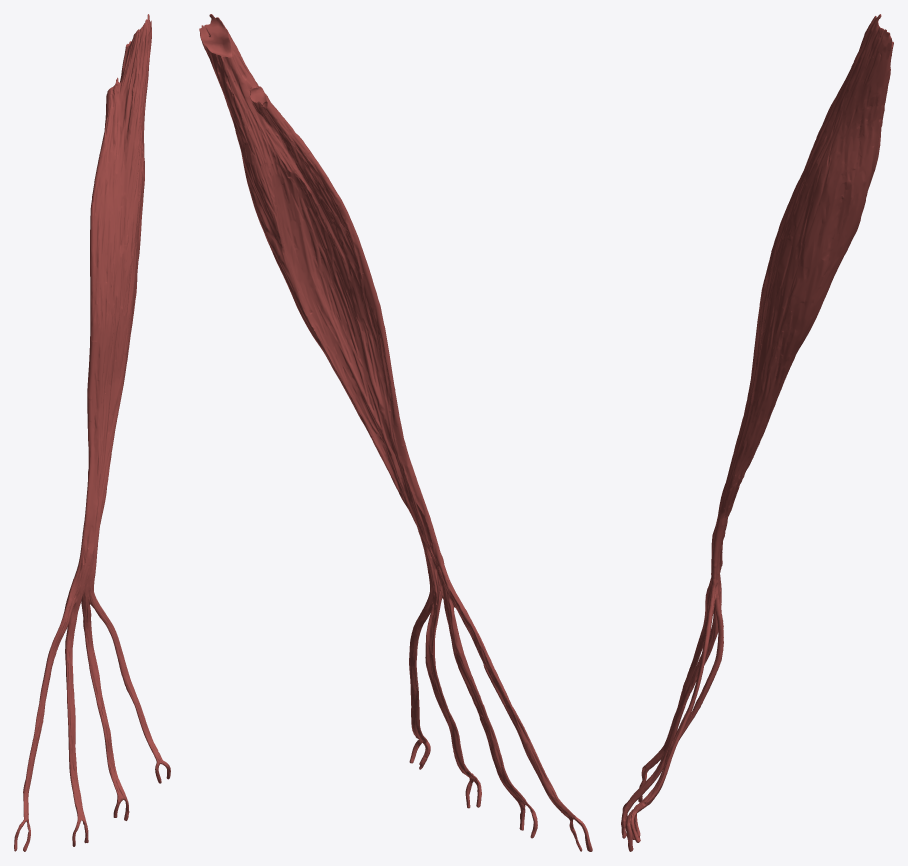
File: FMA38638.glb
3 renders of one model, left to right at view 1: azimuth 30°, elevation 25°; view 2: azimuth 150°, elevation 25°; view 3: azimuth 270°, elevation 25°, orthographic. The views are drawn at different scales.
Parts seen in each view (by area): view 1: FMA38638; view 2: FMA38638; view 3: FMA38638.
Part boxes in pixels (x1,y1,x2,y2): FMA38638: [14, 14, 170, 851]; FMA38638: [199, 14, 592, 851]; FMA38638: [621, 14, 893, 851].
Bounding box in the file's own units: 0.1278 × 0.3773 × 0.1004.
